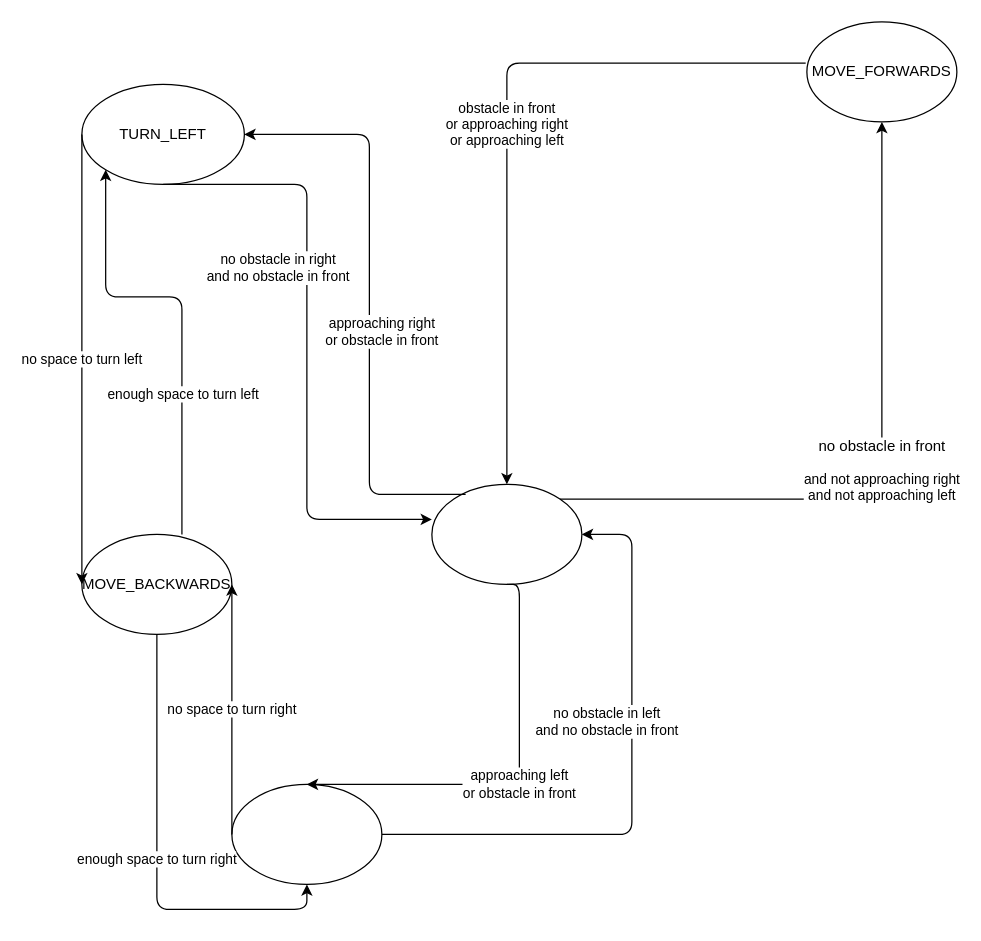
Image size: 981x941. Some labels were removed from this diagram. The shapes that lost their labels are listed below. From the top down, each one's centre as x and y in pixels, then its label:
[506,533]: WAIT
[306,833]: TURN_RIGHT
